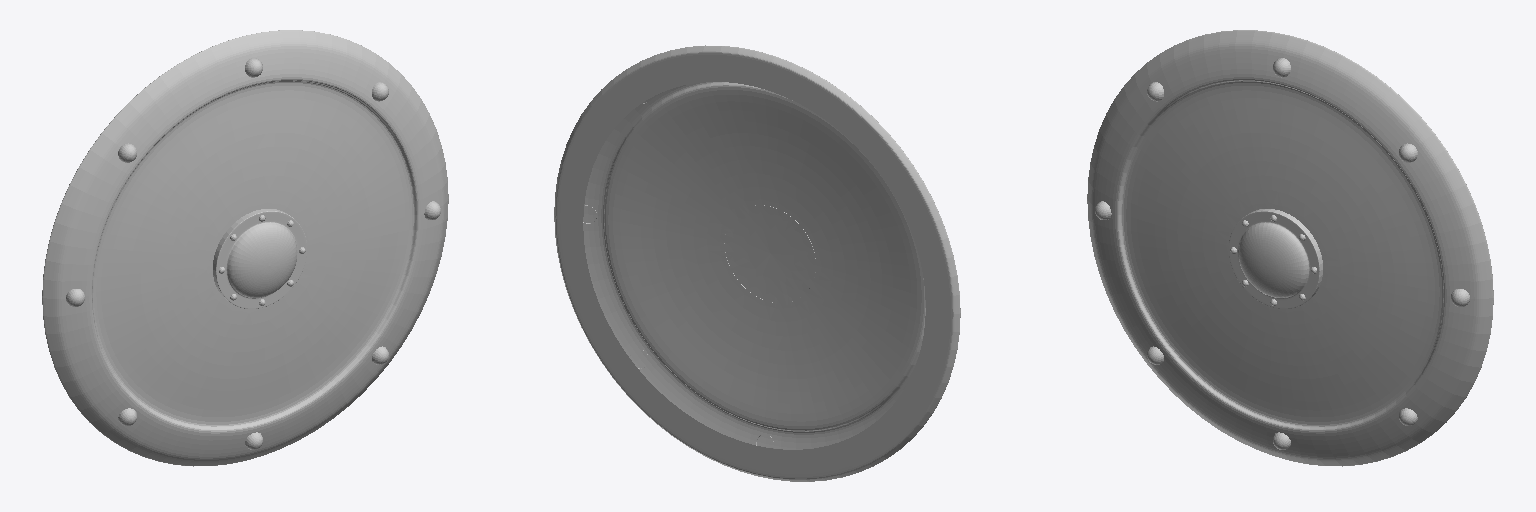
Rendered from armour.obj.
The picture shows the model from 3 angles: view 1: azimuth 30°, elevation 25°; view 2: azimuth 150°, elevation 25°; view 3: azimuth 330°, elevation 25°; orthographic projection.
Visible parts, largest first — view 1: Sphere, Sphere.001, Sphere.005; view 2: Sphere; view 3: Sphere, Sphere.001, Sphere.005.
Boxes of the visible parts, x1,y1,x2,y2 form: Sphere: [42, 30, 448, 466]; Sphere.001: [213, 209, 306, 308]; Sphere.005: [66, 58, 440, 449]; Sphere: [554, 45, 960, 481]; Sphere: [1087, 30, 1493, 466]; Sphere.001: [1229, 209, 1322, 308]; Sphere.005: [1095, 58, 1469, 449].
Bounding box in the file's own units: 50 × 50 × 5.75.